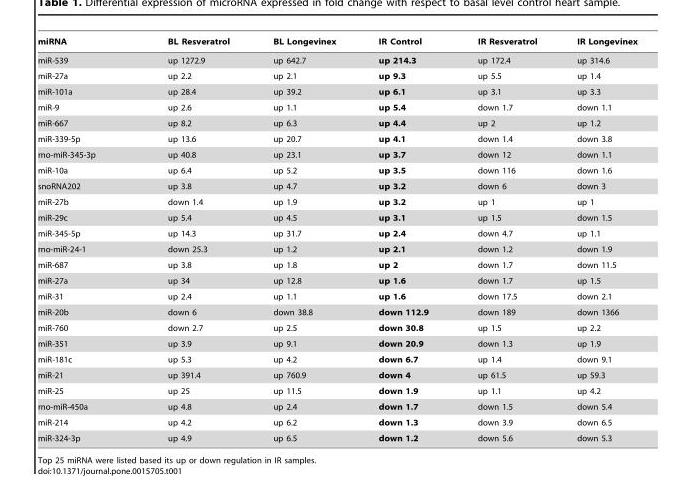table: (37, 36, 636, 442)
table column: (130, 36, 250, 442), (250, 36, 356, 442), (452, 36, 556, 442), (356, 36, 452, 442), (37, 36, 130, 442), (556, 36, 636, 442)
table column header: (37, 36, 636, 50)
table row: (37, 50, 636, 67), (37, 67, 636, 83), (37, 83, 636, 99), (37, 99, 636, 115), (37, 130, 636, 146), (37, 146, 636, 162), (37, 162, 636, 178), (37, 193, 636, 209), (37, 209, 636, 225), (37, 225, 636, 241), (37, 256, 636, 272), (37, 272, 636, 288), (37, 288, 636, 304), (37, 319, 636, 335), (37, 335, 636, 351), (37, 351, 636, 367), (37, 382, 636, 398), (37, 398, 636, 414), (37, 414, 636, 430), (37, 115, 636, 130), (37, 178, 636, 193), (37, 241, 636, 256), (37, 304, 636, 319), (37, 367, 636, 382), (37, 36, 636, 50), (37, 430, 636, 442)
